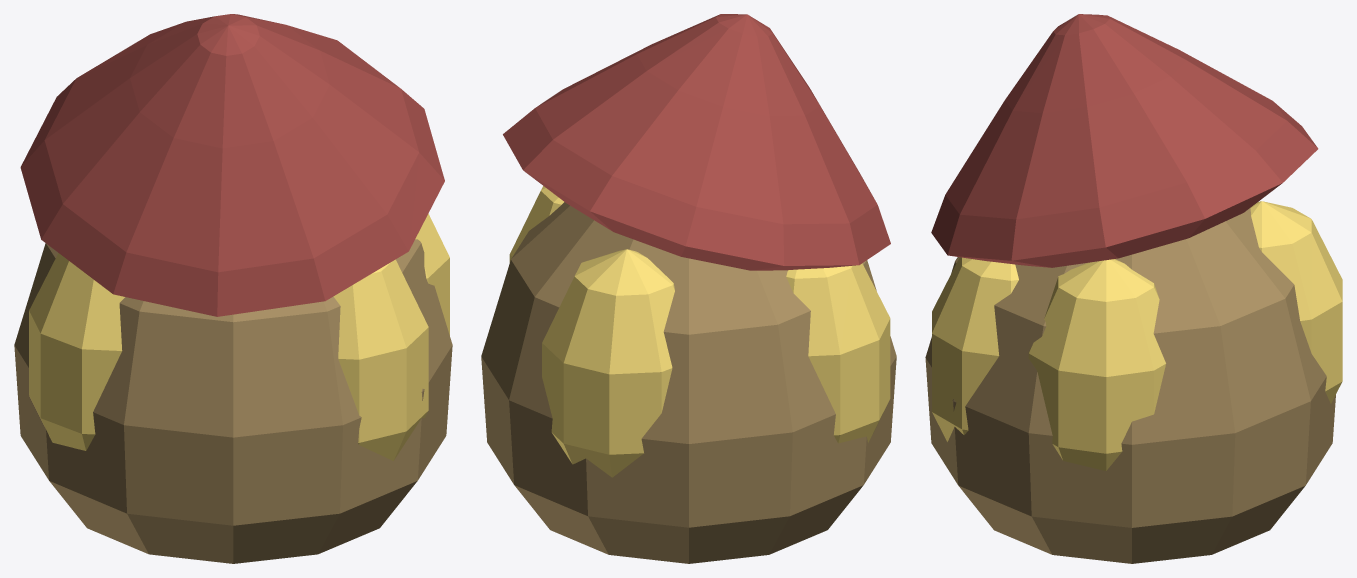
File: plant_boomshroom_a.obj
The picture shows the model from 3 angles, left to right: view 1: azimuth 30°, elevation 25°; view 2: azimuth 150°, elevation 25°; view 3: azimuth 270°, elevation 25°; orthographic projection. The views are drawn at different scales.
Visible parts, largest first — view 1: plant_boomshroom_a_5, plant_boomshroom_a_0, plant_boomshroom_a_1, plant_boomshroom_a_4, plant_boomshroom_a_2; view 2: plant_boomshroom_a_0, plant_boomshroom_a_5, plant_boomshroom_a_3, plant_boomshroom_a_4, plant_boomshroom_a_2; view 3: plant_boomshroom_a_0, plant_boomshroom_a_5, plant_boomshroom_a_2, plant_boomshroom_a_1, plant_boomshroom_a_3.
Part boxes in pixels (bbox=[...]): plant_boomshroom_a_5: bbox=[20, 14, 444, 316]; plant_boomshroom_a_0: bbox=[14, 239, 452, 563]; plant_boomshroom_a_1: bbox=[333, 259, 428, 460]; plant_boomshroom_a_4: bbox=[29, 253, 124, 450]; plant_boomshroom_a_2: bbox=[415, 213, 449, 335]; plant_boomshroom_a_0: bbox=[481, 202, 896, 563]; plant_boomshroom_a_5: bbox=[503, 14, 890, 270]; plant_boomshroom_a_3: bbox=[542, 249, 674, 477]; plant_boomshroom_a_4: bbox=[786, 263, 890, 443]; plant_boomshroom_a_2: bbox=[509, 186, 563, 262]; plant_boomshroom_a_0: bbox=[925, 208, 1335, 563]; plant_boomshroom_a_5: bbox=[931, 14, 1318, 267]; plant_boomshroom_a_2: bbox=[1028, 259, 1165, 470]; plant_boomshroom_a_1: bbox=[932, 257, 1018, 441]; plant_boomshroom_a_3: bbox=[1250, 201, 1342, 403].
Bounding box in the file's own units: 0.7165 × 0.8735 × 0.7066.
